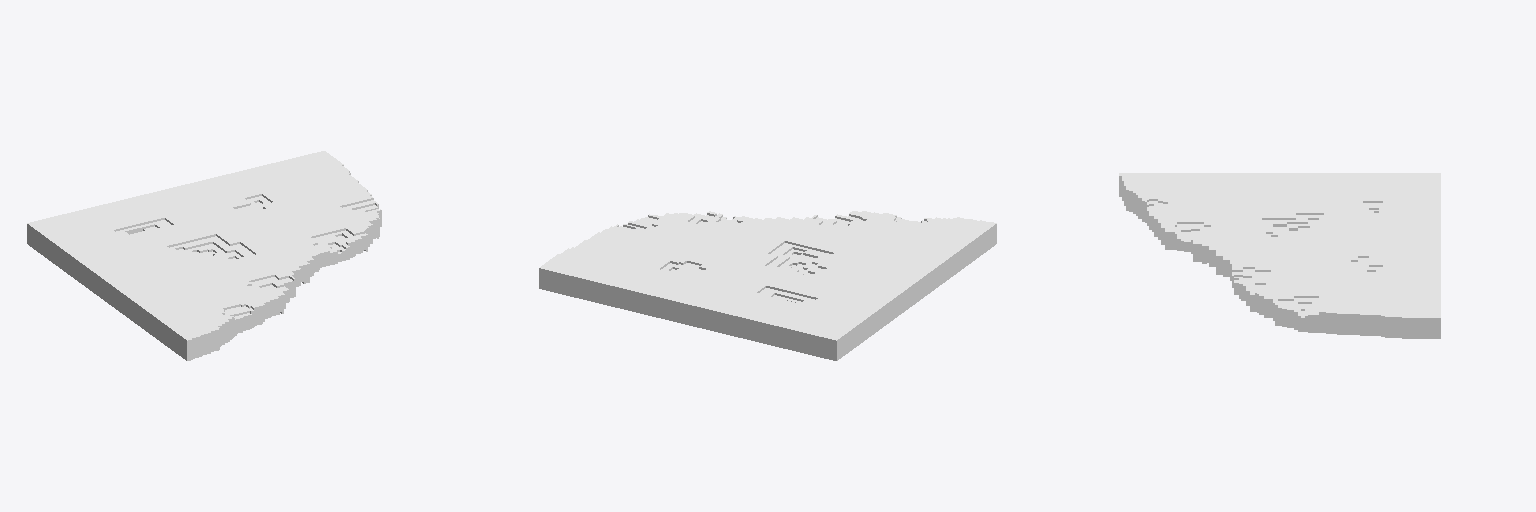
File: platform01.obj
The picture shows the model from 3 angles: view 1: azimuth 30°, elevation 25°; view 2: azimuth 150°, elevation 25°; view 3: azimuth 270°, elevation 25°; orthographic projection.
Visible parts, largest first — view 1: object 1; view 2: object 1; view 3: object 1.
Boxes of the visible parts, x1,y1,x2,y2 form: object 1: [27, 151, 381, 360]; object 1: [539, 211, 996, 360]; object 1: [1119, 173, 1440, 338].
Size of the model in its own units: 15 by 1 by 14.